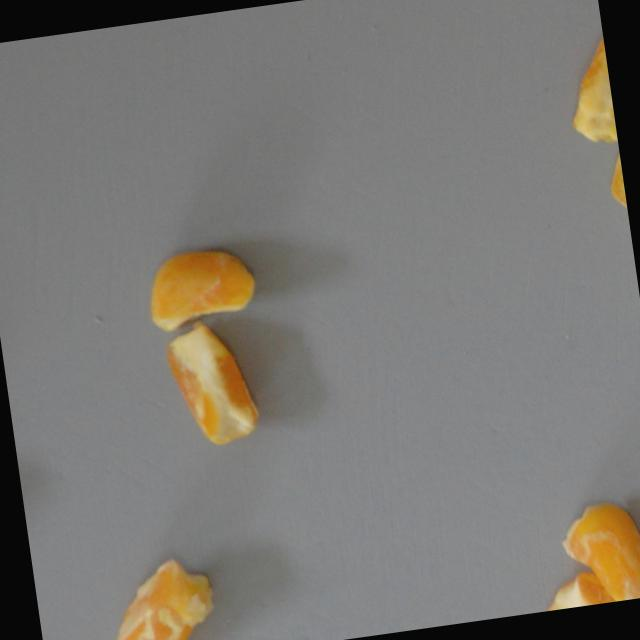pelicula: (160, 313, 264, 452), (139, 239, 266, 335), (93, 552, 221, 640), (557, 495, 640, 608), (560, 31, 618, 148), (540, 565, 640, 612), (602, 145, 633, 252)
